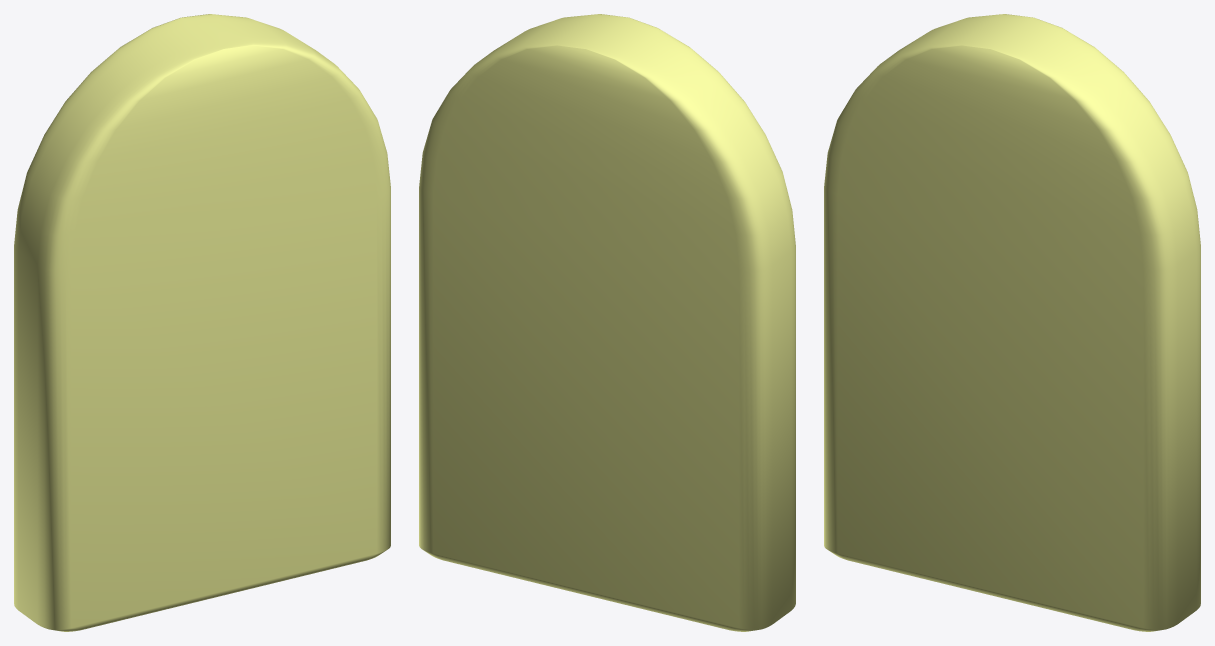
File: pop.fbx
The picture shows the model from 3 angles, left to right: view 1: azimuth 30°, elevation 25°; view 2: azimuth 150°, elevation 25°; view 3: azimuth 330°, elevation 25°; orthographic projection.
Visible parts, largest first — view 1: Cube.006; view 2: Cube.006; view 3: Cube.006.
Boxes of the visible parts, x1,y1,x2,y2 form: Cube.006: (14, 14, 390, 631); Cube.006: (419, 14, 795, 631); Cube.006: (824, 14, 1200, 631).
Size of the model in its own units: 7000 by 10466 by 1500.
